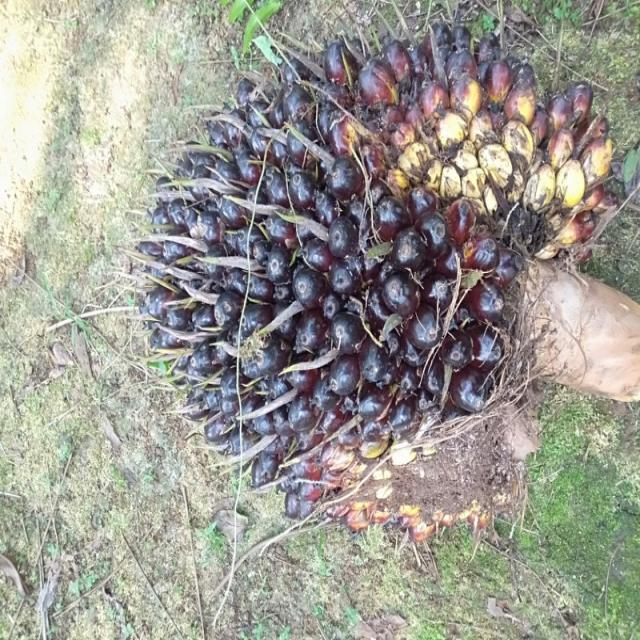fraksi 00: (118, 13, 640, 557)
